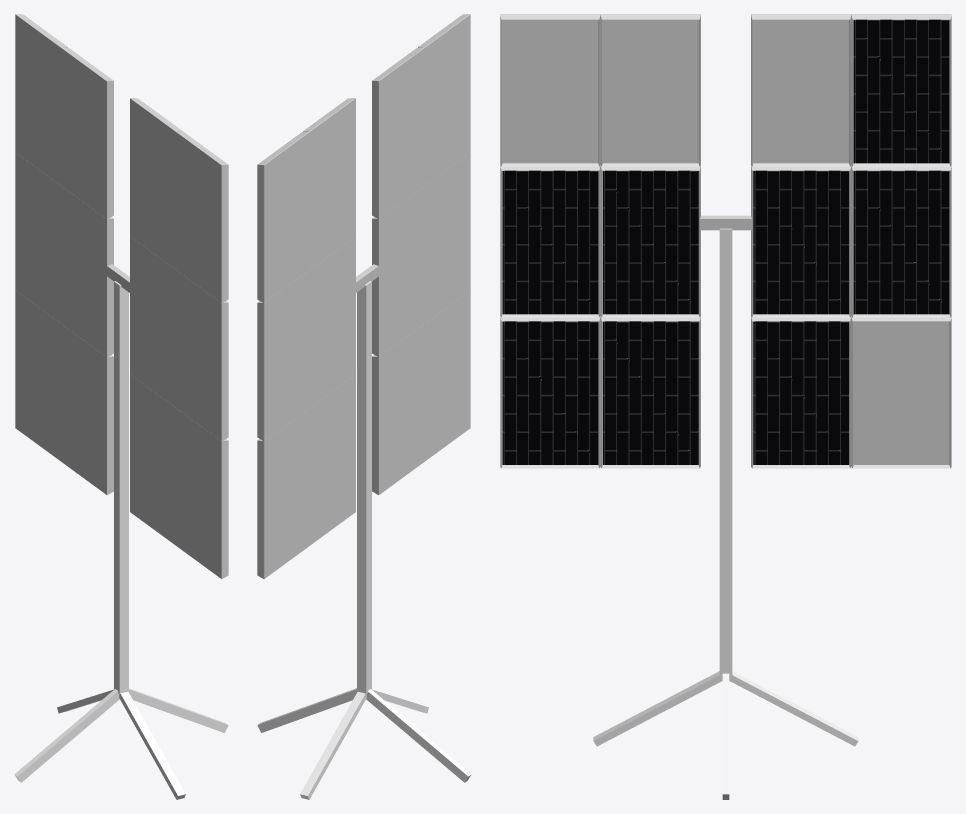
Rendered from panel.glb.
3 renders of one model, left to right at view 1: azimuth 30°, elevation 25°; view 2: azimuth 150°, elevation 25°; view 3: azimuth 270°, elevation 25°, orthographic. The views are drawn at different scales.
Parts seen in each view (by area): view 1: Panel, Base; view 2: Panel, Base; view 3: Panel, Base.
Boxes of the visible parts, x1,y1,x2,y2 form: Panel: (15,14,228,578); Base: (14,281,228,799); Panel: (257,14,470,578); Base: (257,281,471,799); Panel: (500,14,951,468); Base: (593,228,858,799).
Size of the model in its own units: 3.2 by 9.68 by 5.43.
3 materials, 1 textured.
